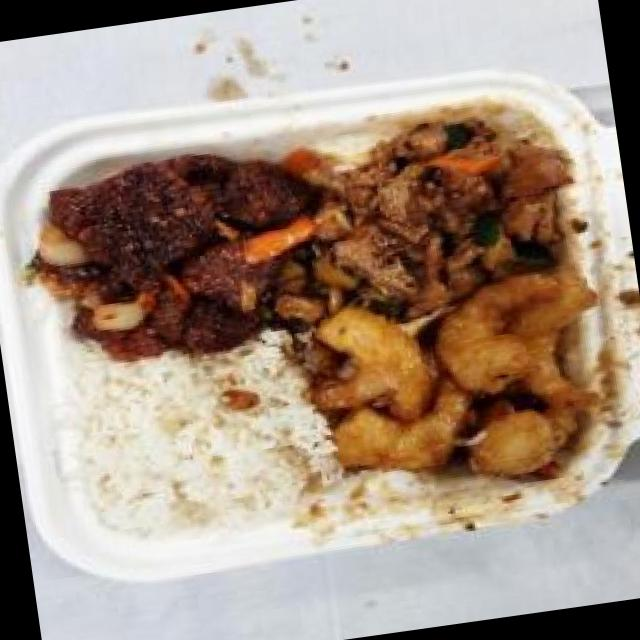Beijing Beef: (19, 129, 328, 371)
Honey Walnut Shrimp: (298, 266, 629, 514)
Kung Pao Chicken: (278, 90, 600, 342)
White Steamed Rice: (62, 340, 328, 550)
